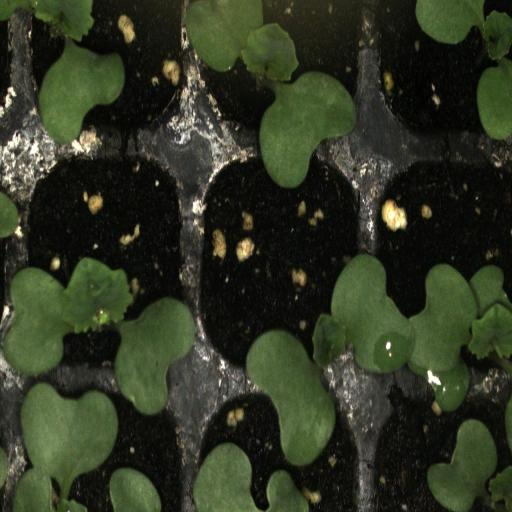Folha: (244, 253, 512, 467), (0, 0, 125, 145), (190, 442, 309, 512), (427, 419, 512, 512), (109, 467, 161, 512)
Germinacao: (192, 146, 367, 390), (19, 146, 191, 386), (371, 151, 512, 388), (188, 4, 368, 154), (368, 3, 512, 154)
